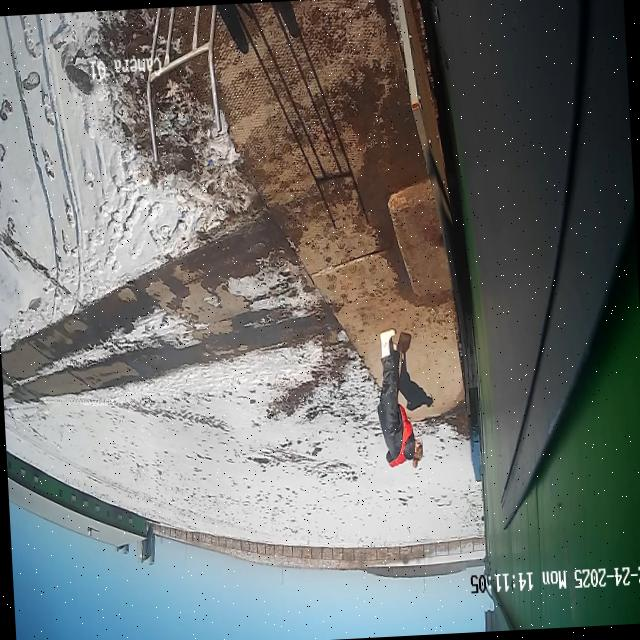Red uniform: (372, 326, 425, 472)
